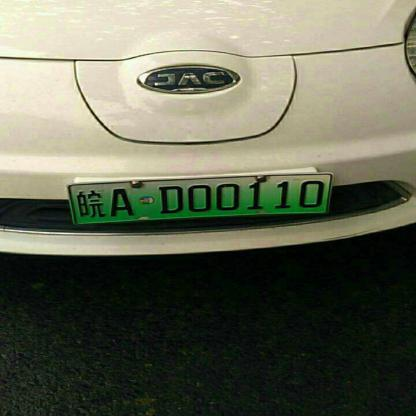lp: (68, 172, 330, 225)
